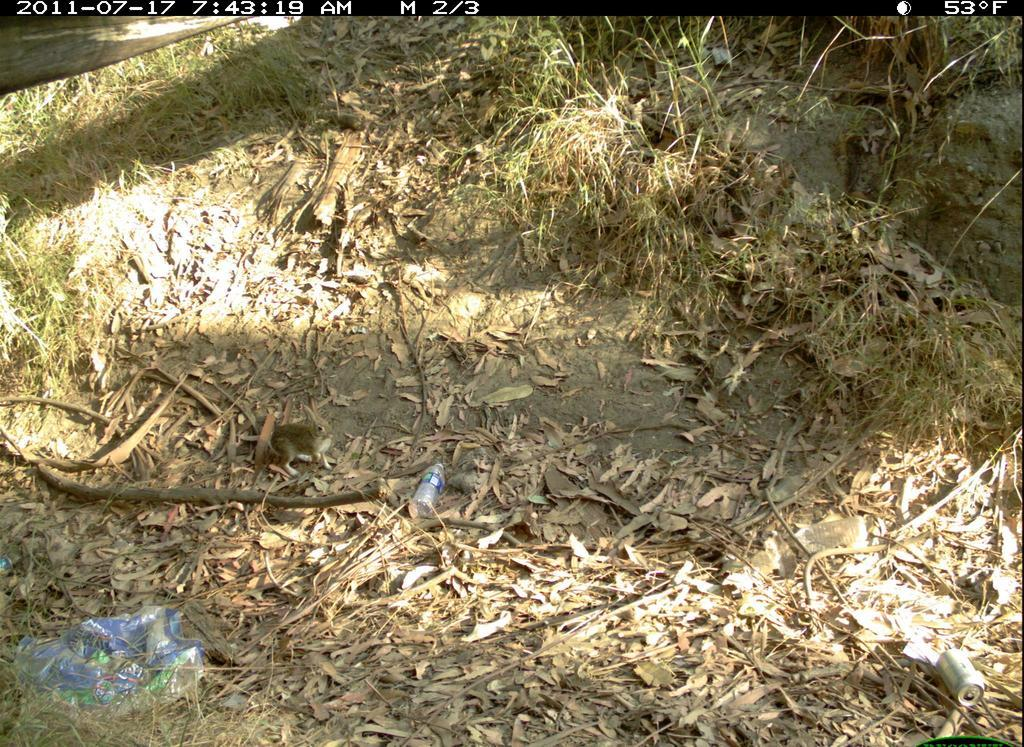rabbit: (266, 397, 347, 478)
